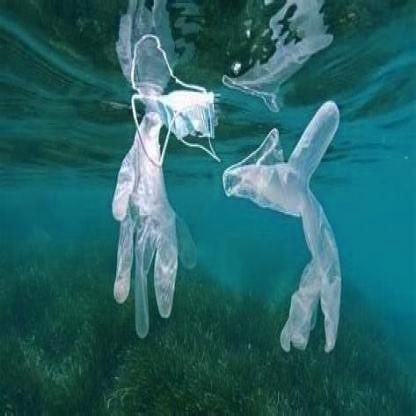Mask: (125, 84, 225, 164)
glove: (223, 97, 345, 355), (109, 112, 200, 338)
